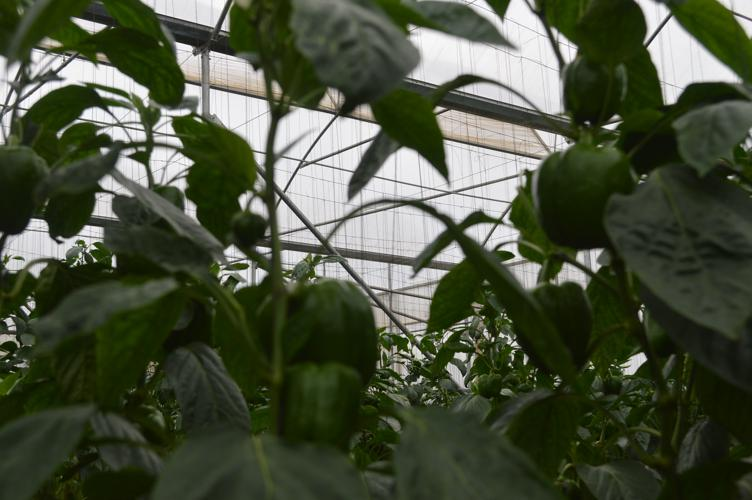BellPepper: (528, 134, 643, 254), (261, 271, 390, 376), (276, 358, 368, 453), (550, 50, 634, 126), (2, 146, 48, 238)
